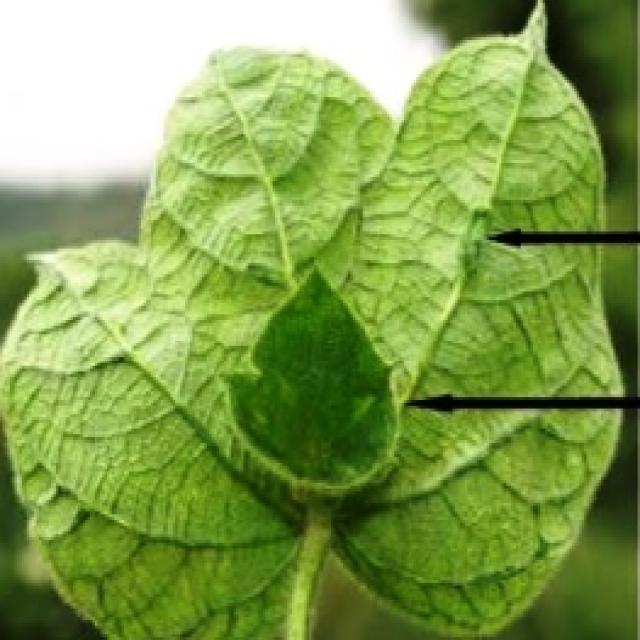Leaf Curl Virus: (170, 190, 468, 586)
